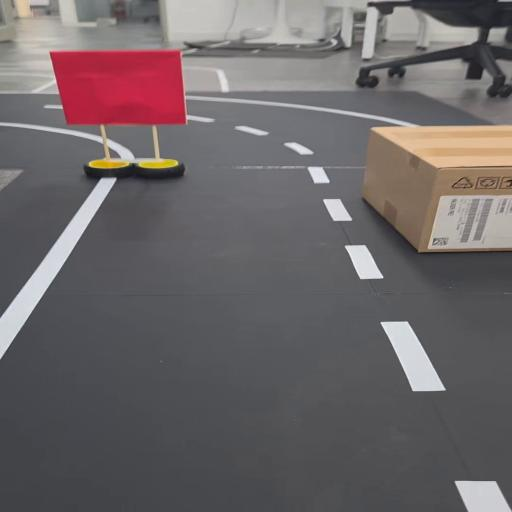Box: (363, 122, 512, 253)
Sign_A: (46, 53, 186, 185)
